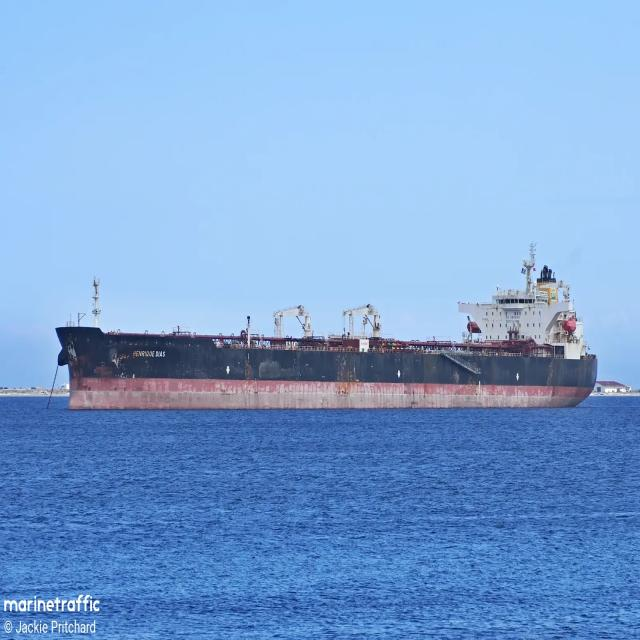Tanker: (56, 246, 596, 409)
